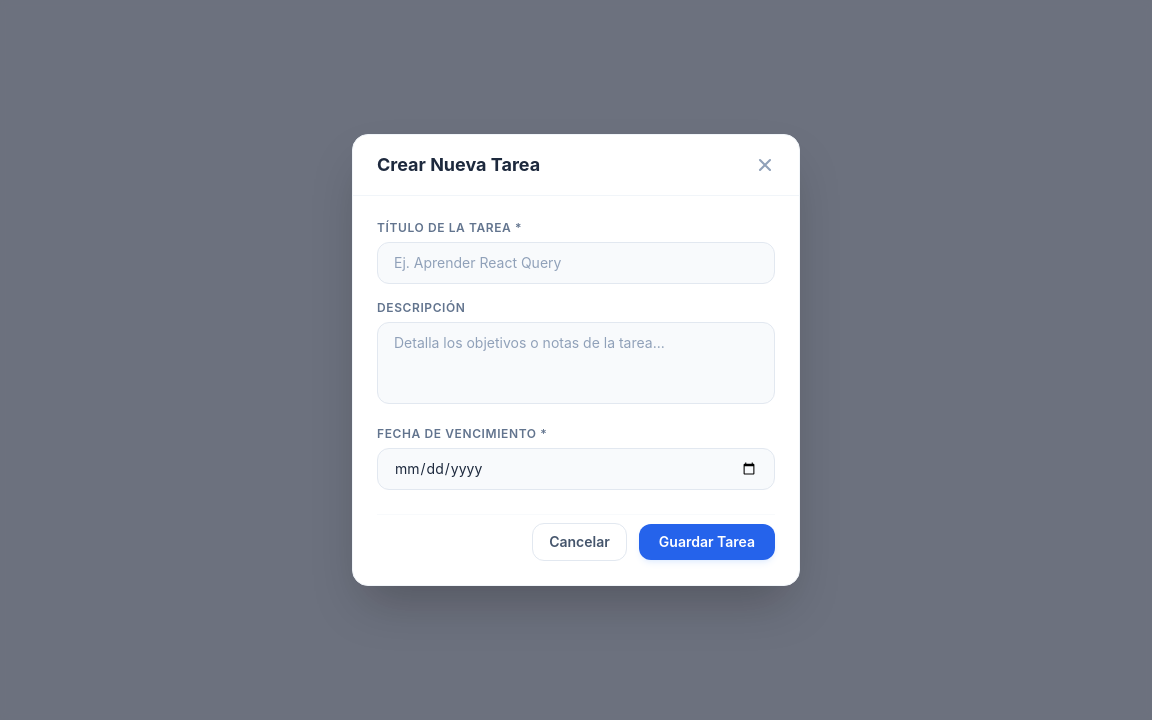
Scenario: CreateTaskModal Component › debe mostrar un mensaje de error si el usuario intenta enviar el formulario vacío
Step 1. Click the button "Guardar Tarea" → (707, 542), box [639,524,775,560]
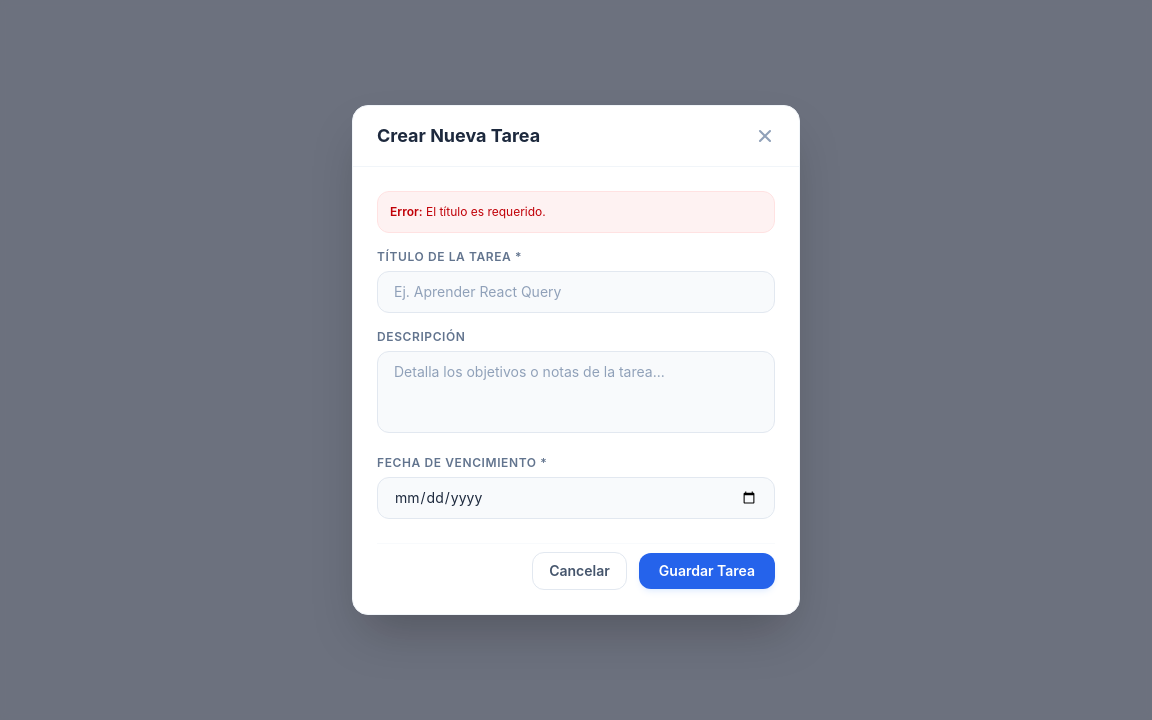
Check: the text "El título es requerido." is shown, box [426,204,546,219]
